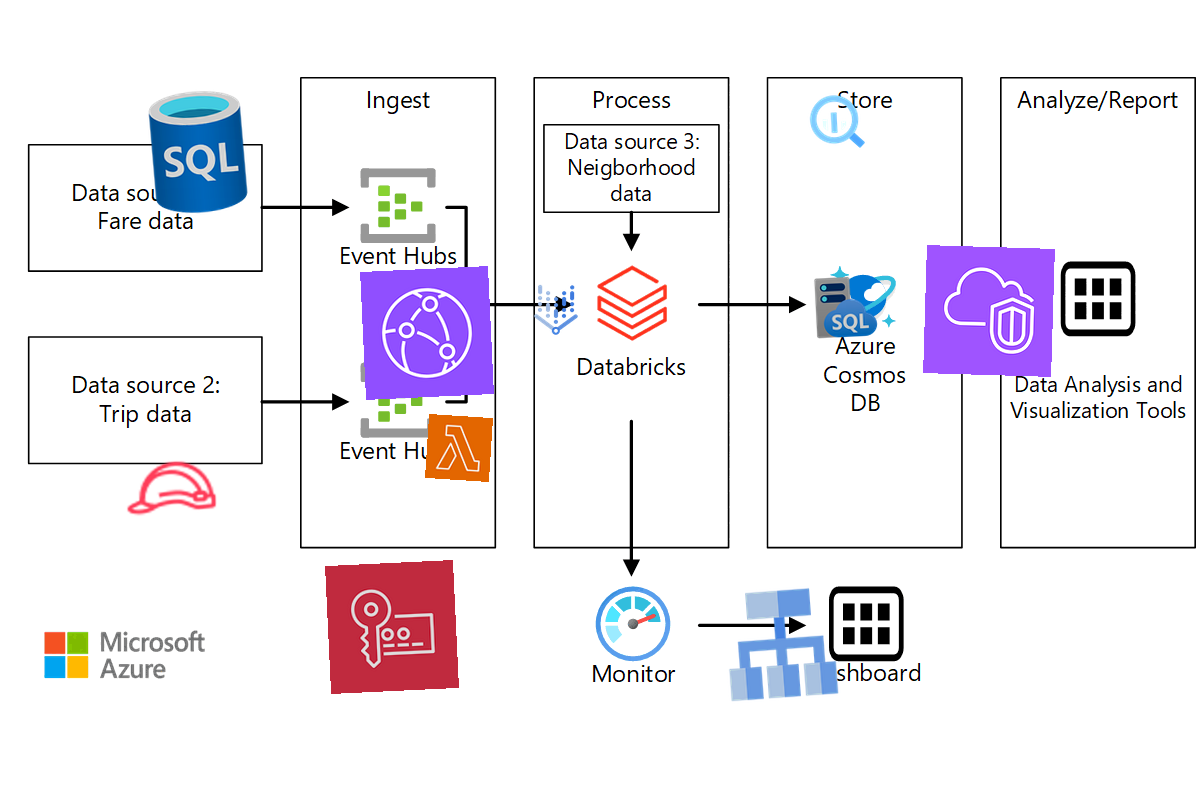aws_amazon_cloudfront: (360, 266, 494, 400)
aws_amazon_virtual_private_cloud: (923, 245, 1055, 377)
aws_identity_access_management_role: (121, 438, 221, 538)
aws_key_management_service: (325, 560, 459, 694)
aws_lambda: (424, 413, 494, 483)
azure_sql_database: (128, 82, 268, 222)
azure_sql_managed_instance: (812, 273, 880, 341)
gcp_bigquery: (803, 88, 871, 156)
gcp_cloud_load_balancing: (712, 575, 850, 713)
gcp_vertex_ai: (523, 277, 589, 343)
